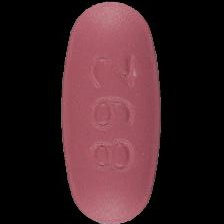43063-408: (0, 0, 224, 224)
